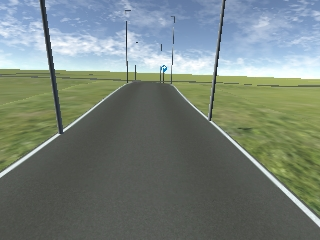right: (159, 65, 168, 73)
